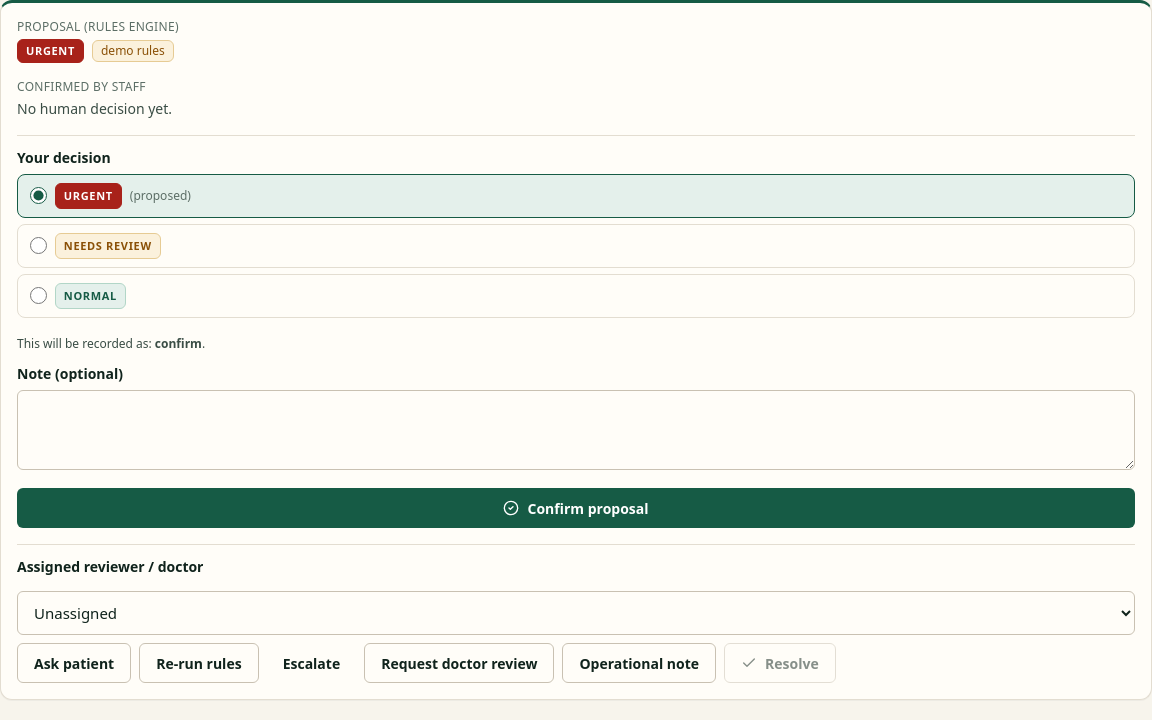
Test: decision panel › requires a reason (10+ chars) to downgrade a proposal
Click the radio button labelled "Normal" at [38, 296], box [30,288,47,304]
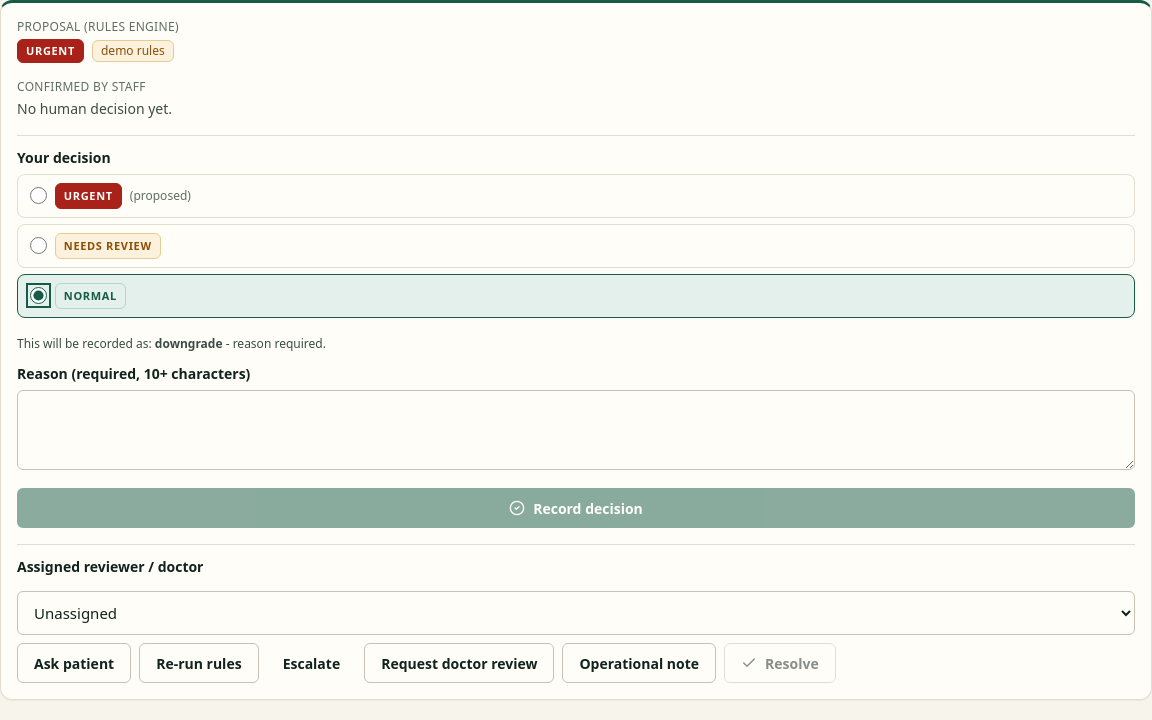
Now the button "Record decision" is disabled, box [17,488,1135,528]
Now the text "downgrade" is shown, box [155,335,223,352]
Type "short" into the text box labelled "Reason (required, 10+ characters)" at [576, 430], box [17,390,1135,470]
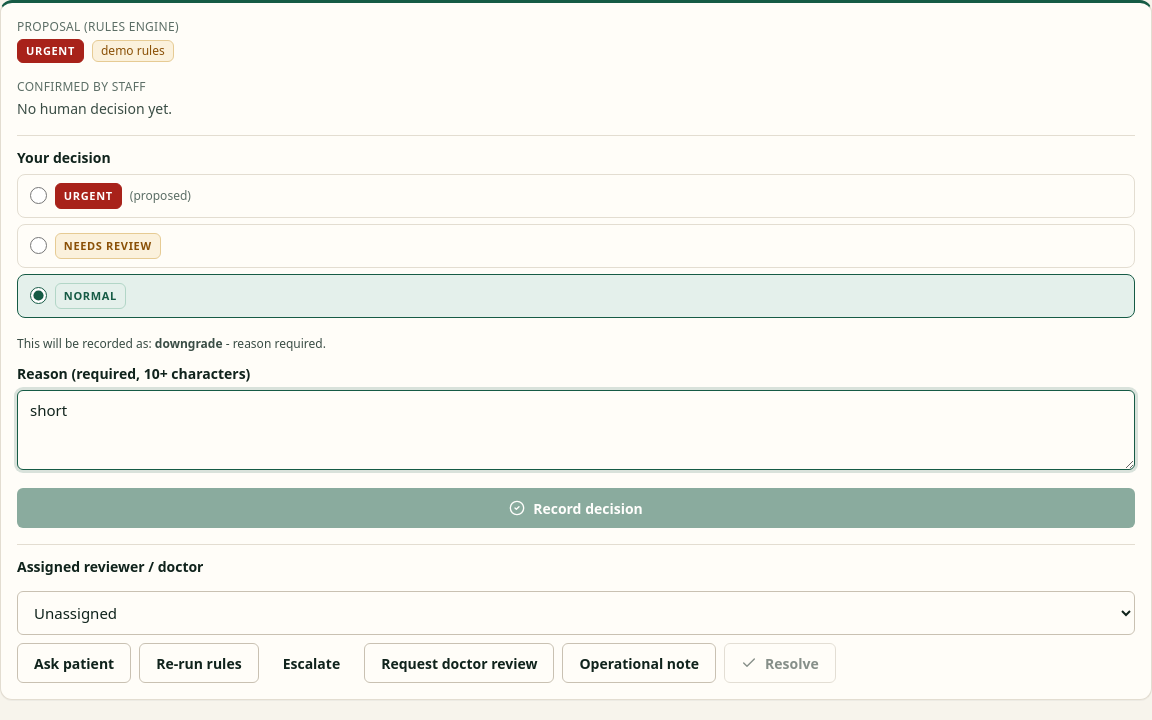
Now the button "Record decision" is disabled, box [17,488,1135,528]
Type " but now long enough" into the text box labelled "Reason (required, 10+ characters)" at [576, 430], box [17,390,1135,470]
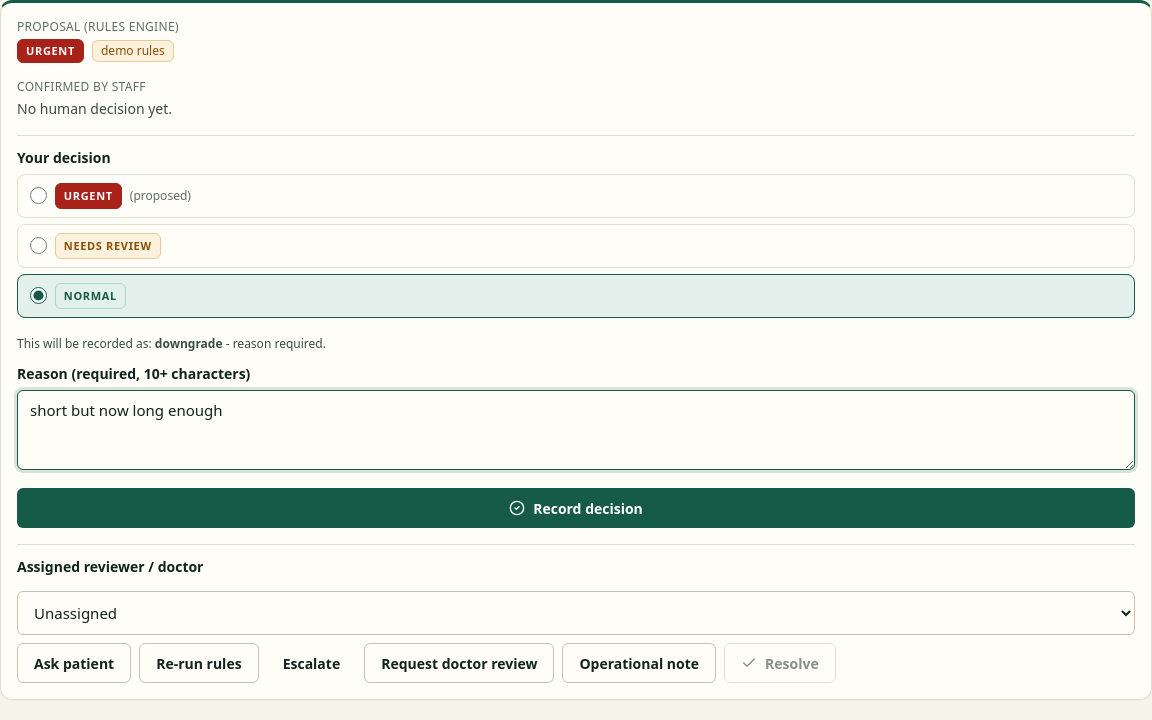
Now the button "Record decision" is enabled, box [17,488,1135,528]
